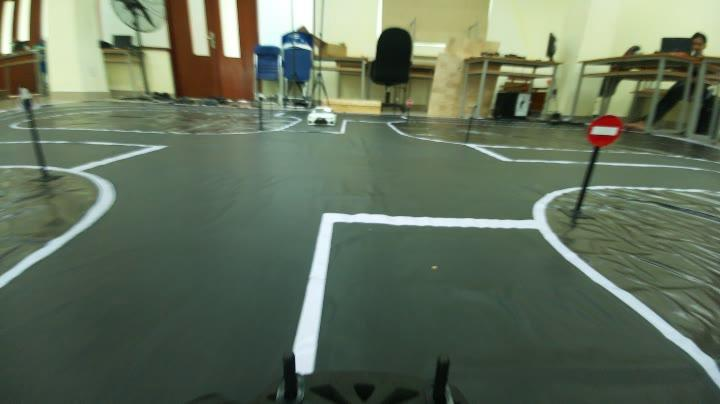no_entry: (582, 109, 630, 156)
